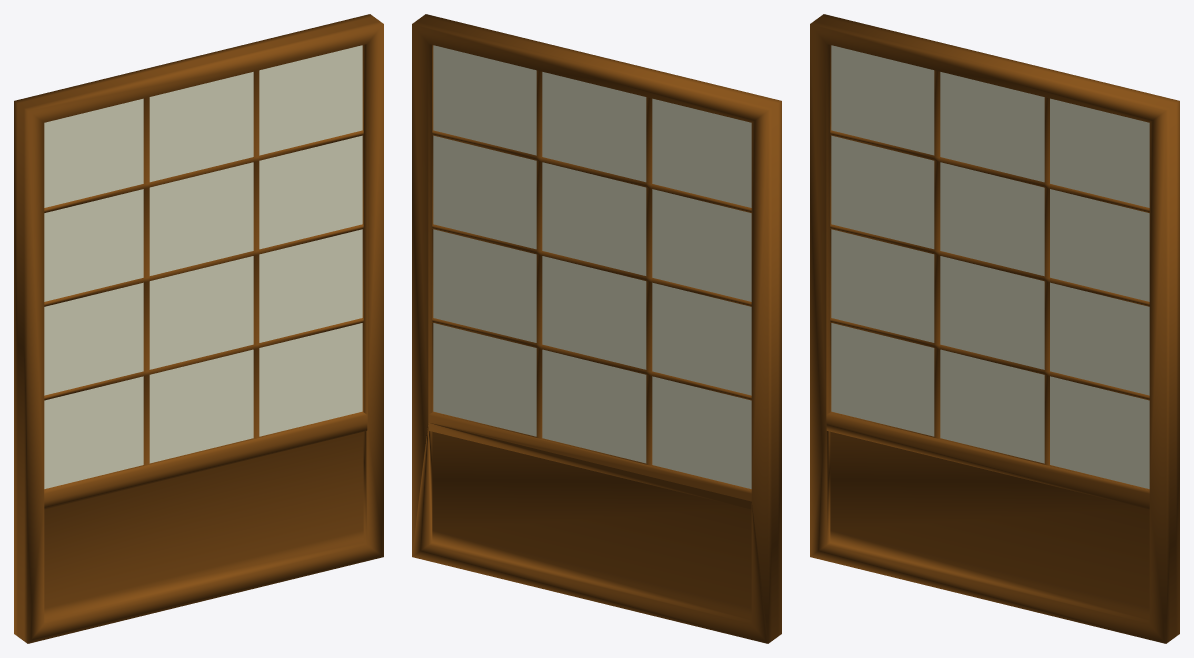
File: shojiFull.obj
The picture shows the model from 3 angles, left to right: view 1: azimuth 30°, elevation 25°; view 2: azimuth 150°, elevation 25°; view 3: azimuth 330°, elevation 25°; orthographic projection.
Parts seen in each view (by area): view 1: 立方体; view 2: 立方体; view 3: 立方体.
Boxes of the visible parts, x1,y1,x2,y2 form: 立方体: (14, 14, 383, 643); 立方体: (412, 14, 781, 643); 立方体: (810, 14, 1179, 643).
Size of the model in its own units: 5.62 by 8.04 by 0.3759.
Materials: 13 (13 with a texture image).
